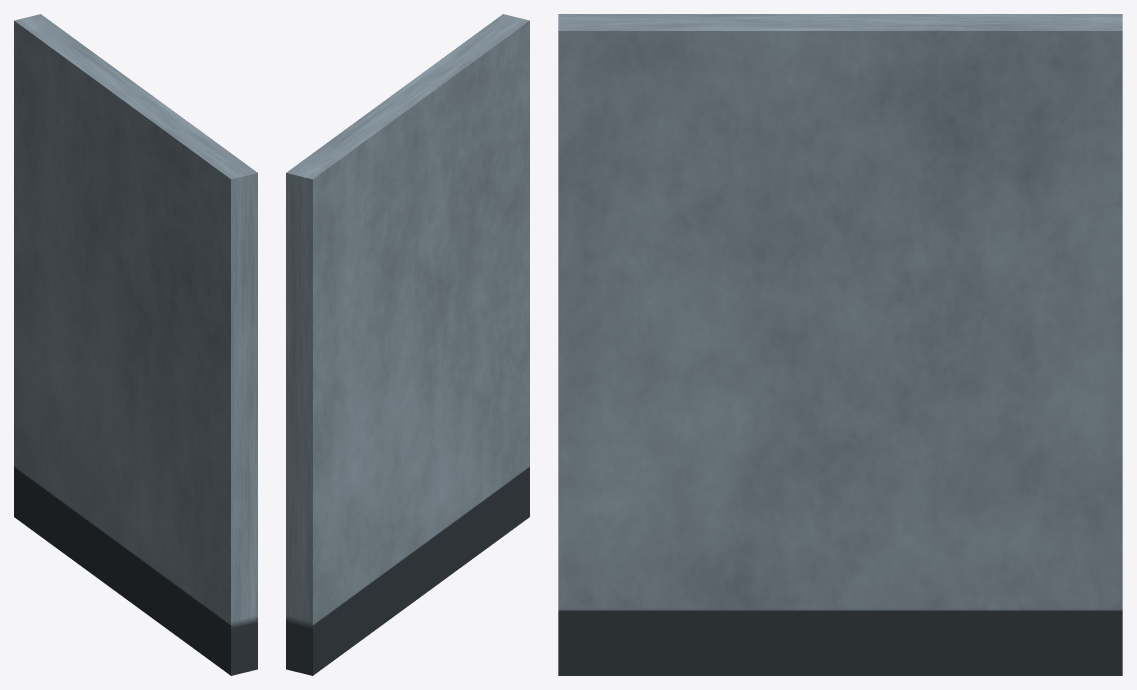
File: Basement_BreakWall.fbx
3 views of the same model, side by side, from view 1: azimuth 30°, elevation 25°; view 2: azimuth 150°, elevation 25°; view 3: azimuth 270°, elevation 25° (orthographic). The views are drawn at different scales.
Parts seen in each view (by area): view 1: 큐브.005; view 2: 큐브.005; view 3: 큐브.005.
Part boxes in pixels (left/top/right/bottom): 큐브.005: left=14, top=14, right=257, bottom=675; 큐브.005: left=286, top=14, right=529, bottom=675; 큐브.005: left=558, top=14, right=1122, bottom=675.
Bounding box in the file's own units: 2.26 × 40 × 31.7.
